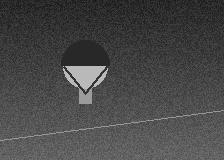helmet: (61, 40, 109, 93)
